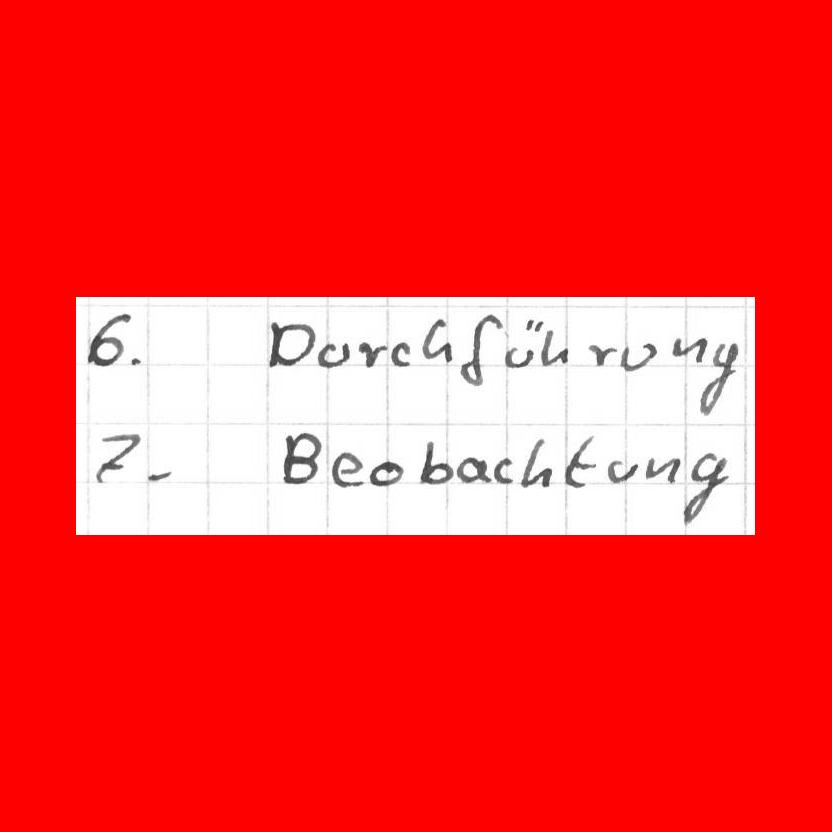Char: (681, 452, 731, 528), (92, 428, 146, 487), (460, 311, 502, 384), (700, 341, 740, 414), (281, 430, 325, 487), (86, 312, 129, 368), (265, 319, 312, 368), (518, 434, 554, 493), (563, 435, 597, 490), (416, 439, 454, 488), (504, 320, 538, 366), (422, 316, 453, 363), (330, 449, 363, 488), (541, 326, 569, 369), (669, 335, 707, 366), (620, 340, 654, 374), (644, 454, 680, 485), (456, 454, 489, 485), (368, 458, 403, 487), (317, 338, 348, 369), (358, 338, 386, 371), (606, 456, 635, 485), (589, 342, 616, 368), (493, 456, 516, 485), (391, 339, 413, 368), (145, 470, 172, 485), (126, 355, 144, 367)
